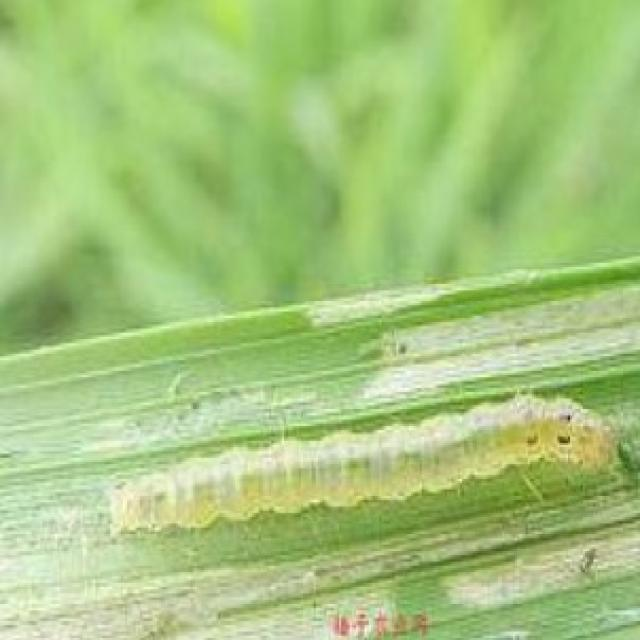rice leaf roller: (110, 396, 617, 528)
